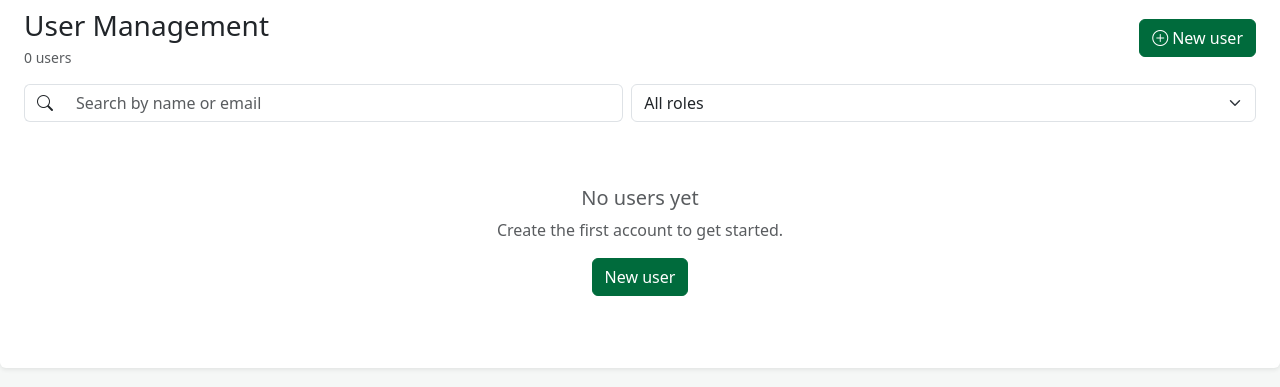
Test: UserManagement (lab-03, Issue 5) › shows empty vs. no-results states distinctly
Expected: the heading "No users yet" is shown, [581,184,699,211]
In the field named "Search users": (344, 103) [64,84,623,122], type "zzz"
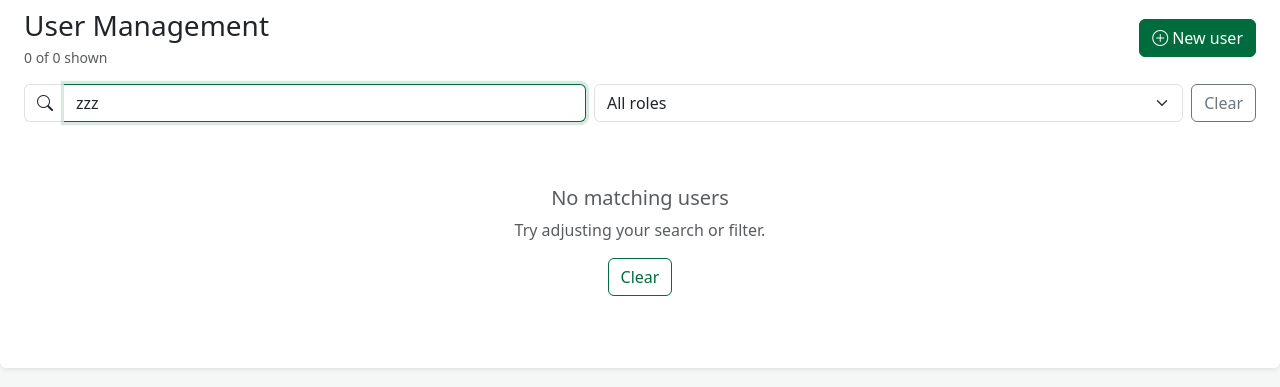
Expected: the heading "No matching users" is shown, [551,184,729,211]
